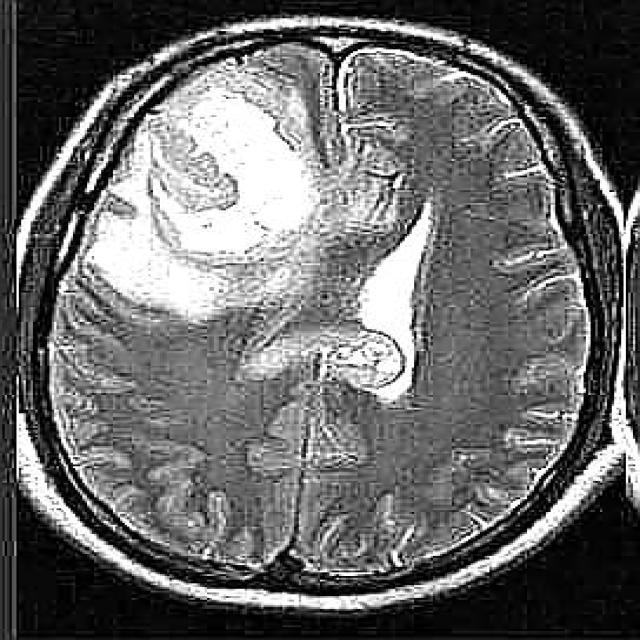Tumor-Cell: (119, 76, 301, 312)
